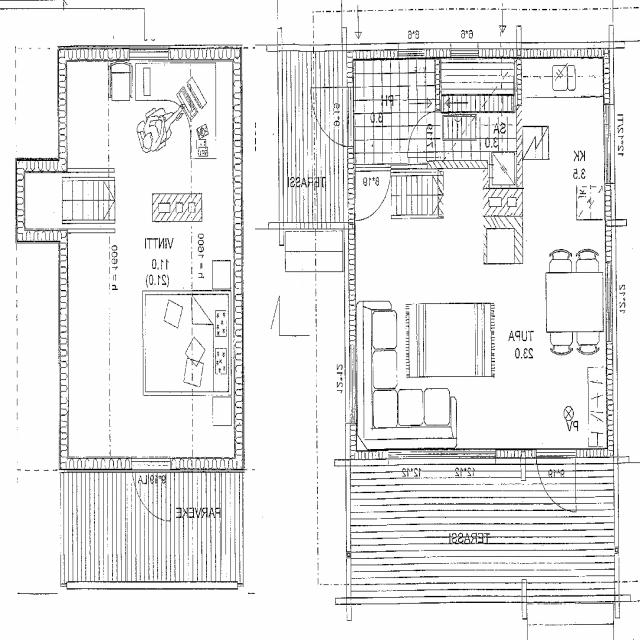door: (304, 87, 355, 146), (537, 449, 576, 522), (132, 456, 171, 527), (356, 160, 391, 219), (404, 111, 440, 157)
